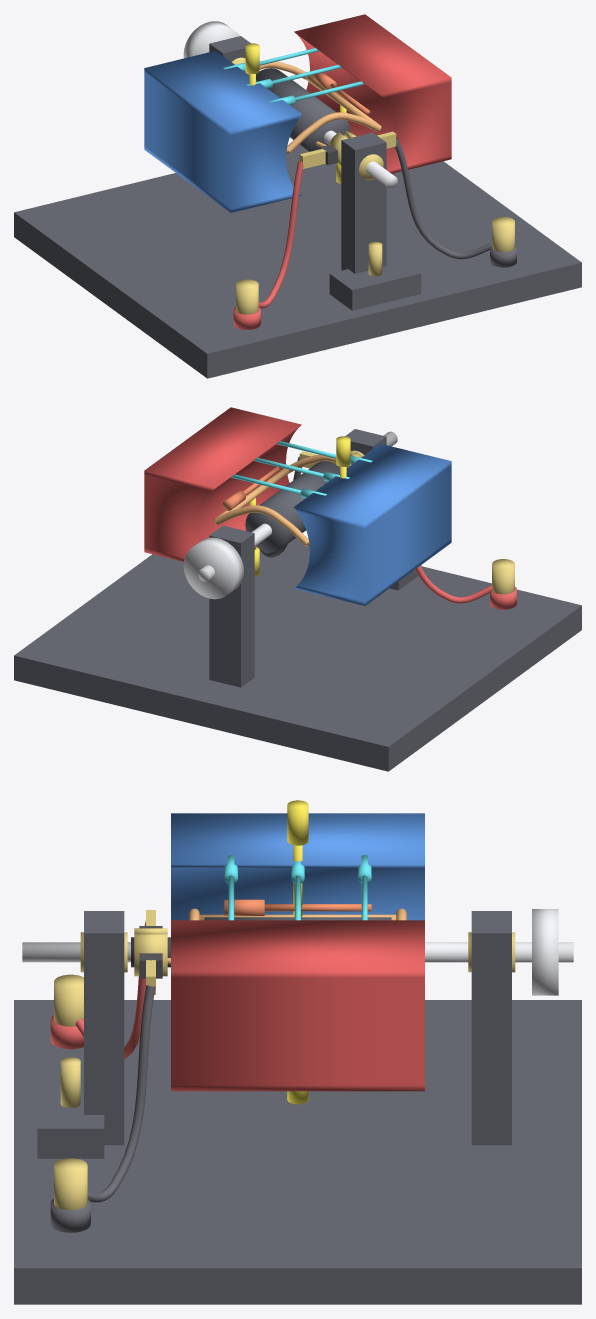
The model's file is electric-motor.glb.
3 views of the same model, one above another, from view 1: azimuth 30°, elevation 25°; view 2: azimuth 150°, elevation 25°; view 3: azimuth 270°, elevation 25° (orthographic). The views are drawn at different scales.
Visible parts, largest first — view 1: Full_Base_Plate, Full_South_Pole, Full_North_Pole, Full_Pillar_-0.058, Full_Key_Base, Full_Armature_Core, Full_Wire_Neg, Full_Pulley, Full_Wire_Pos, Full_Coil_End_BC, Full_Terminal_Pos, Full_Terminal_Neg (+5 smaller); view 2: Full_Base_Plate, Full_South_Pole, Full_North_Pole, Full_Pillar_0.058, Full_Armature_Core, Full_Pulley, Full_Coil_End_DA, Full_Terminal_Pos, Full_Pillar_-0.058, Full_Axle, Full_Wire_Pos, Full_Coil_Arm_AB; view 3: Full_Base_Plate, Full_North_Pole, Full_South_Pole, Full_Pillar_0.058, Full_Pillar_-0.058, Full_Key_Base, Full_Axle, Full_Wire_Neg, Full_Pulley, Full_Terminal_Neg, Full_Terminal_Pos, Full_Key_Plug (+8 smaller).
Part boxes in pixels (bbox=[...]): Full_Base_Plate: bbox=[14, 144, 581, 378]; Full_South_Pole: bbox=[144, 50, 301, 212]; Full_North_Pole: bbox=[294, 14, 451, 173]; Full_Pillar_-0.058: bbox=[341, 132, 386, 273]; Full_Key_Base: bbox=[329, 256, 421, 310]; Full_Armature_Core: bbox=[256, 68, 350, 151]; Full_Wire_Neg: bbox=[395, 137, 492, 259]; Full_Pulley: bbox=[183, 21, 239, 58]; Full_Wire_Pos: bbox=[258, 161, 303, 308]; Full_Coil_End_BC: bbox=[287, 112, 380, 153]; Full_Terminal_Pos: bbox=[236, 279, 258, 330]; Full_Terminal_Neg: bbox=[492, 216, 514, 252]; Full_Base_Plate: bbox=[14, 537, 581, 771]; Full_South_Pole: bbox=[294, 443, 451, 605]; Full_North_Pole: bbox=[144, 407, 301, 561]; Full_Pillar_0.058: bbox=[209, 525, 254, 687]; Full_Armature_Core: bbox=[245, 461, 339, 552]; Full_Pulley: bbox=[183, 537, 243, 599]; Full_Coil_End_DA: bbox=[215, 505, 308, 546]; Full_Terminal_Pos: bbox=[492, 559, 514, 609]; Full_Pillar_-0.058: bbox=[345, 429, 386, 454]; Full_Axle: bbox=[198, 431, 397, 581]; Full_Wire_Pos: bbox=[415, 566, 492, 603]; Full_Coil_Arm_AB: bbox=[214, 468, 289, 524]; Full_Base_Plate: bbox=[14, 1000, 581, 1304]; Full_North_Pole: bbox=[171, 920, 424, 1091]; Full_South_Pole: bbox=[171, 813, 424, 920]; Full_Pillar_0.058: bbox=[471, 911, 511, 1145]; Full_Pillar_-0.058: bbox=[84, 911, 124, 1145]; Full_Key_Base: bbox=[37, 1079, 104, 1158]; Full_Axle: bbox=[22, 942, 573, 962]; Full_Wire_Neg: bbox=[87, 985, 155, 1202]; Full_Pulley: bbox=[532, 909, 558, 995]; Full_Terminal_Neg: bbox=[54, 1158, 87, 1232]; Full_Terminal_Pos: bbox=[54, 974, 83, 1049]; Full_Key_Plug: bbox=[60, 1057, 80, 1107].
Bounding box in the file's own units: 0.19 × 0.11 × 0.17.
